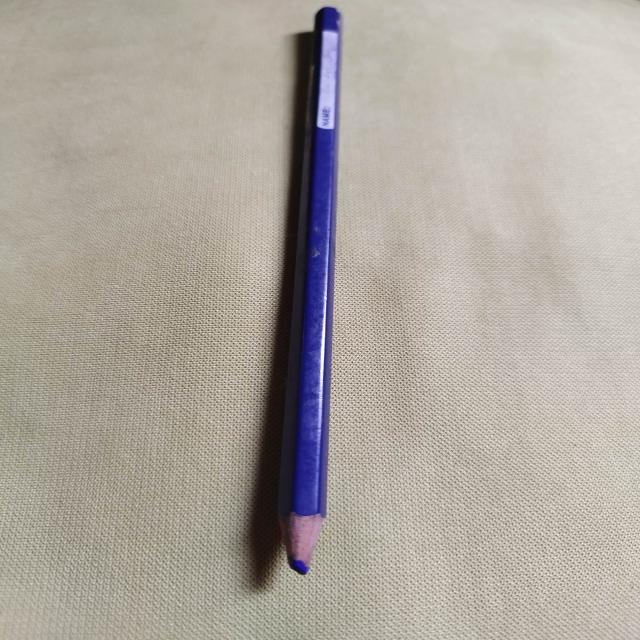pencil: (278, 6, 342, 575)
